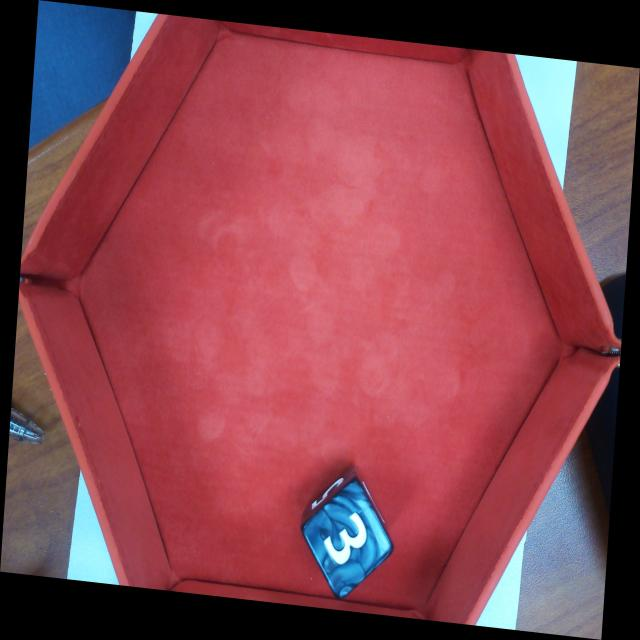dice: (310, 490, 387, 596)
